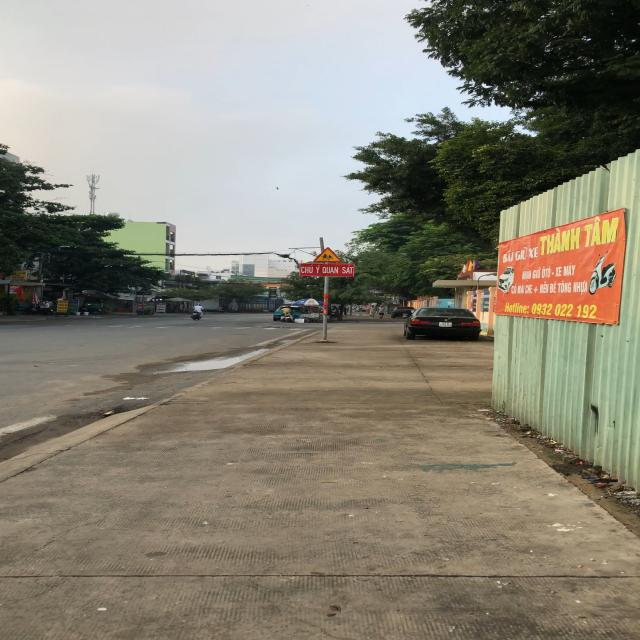Bien bao tre em: (312, 244, 344, 264)
